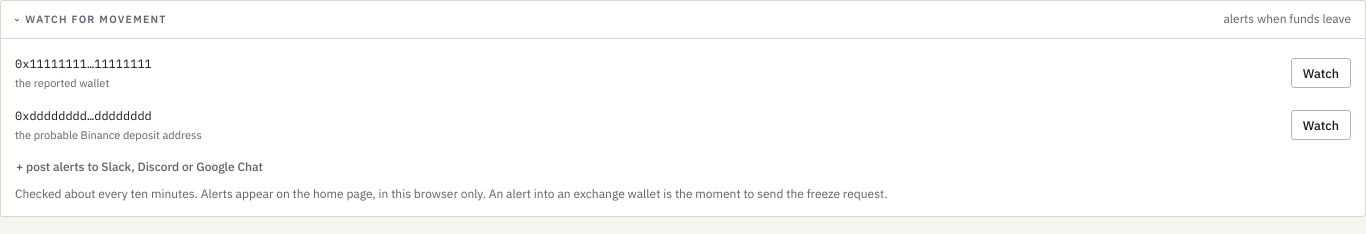
Watch panel › offers the reported wallet and the inferred deposit address, and watches one
Expected: the text "the probable Binance deposit address" is shown, [15, 127, 202, 144]
Click the button "Watch" in the row of "the probable Binance deposit address" at (1321, 125), box [1291, 110, 1351, 140]
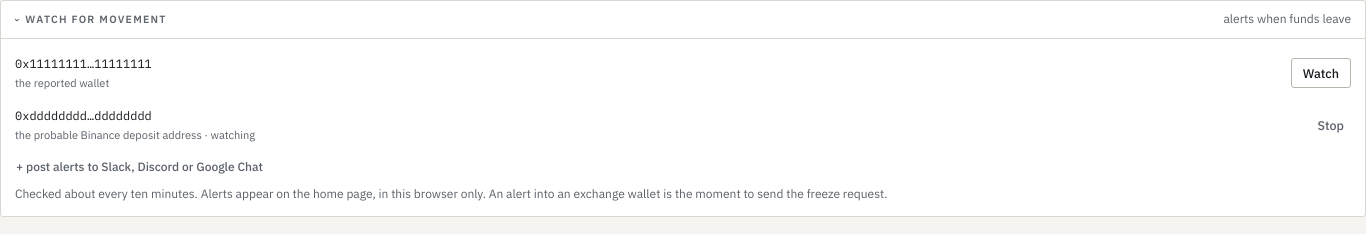
Expected: the button "Stop" is shown, [1311, 112, 1351, 138]
